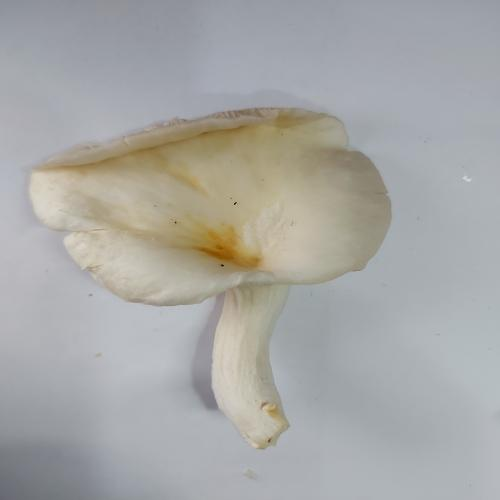Oyster Mushroom: (27, 105, 393, 450)
